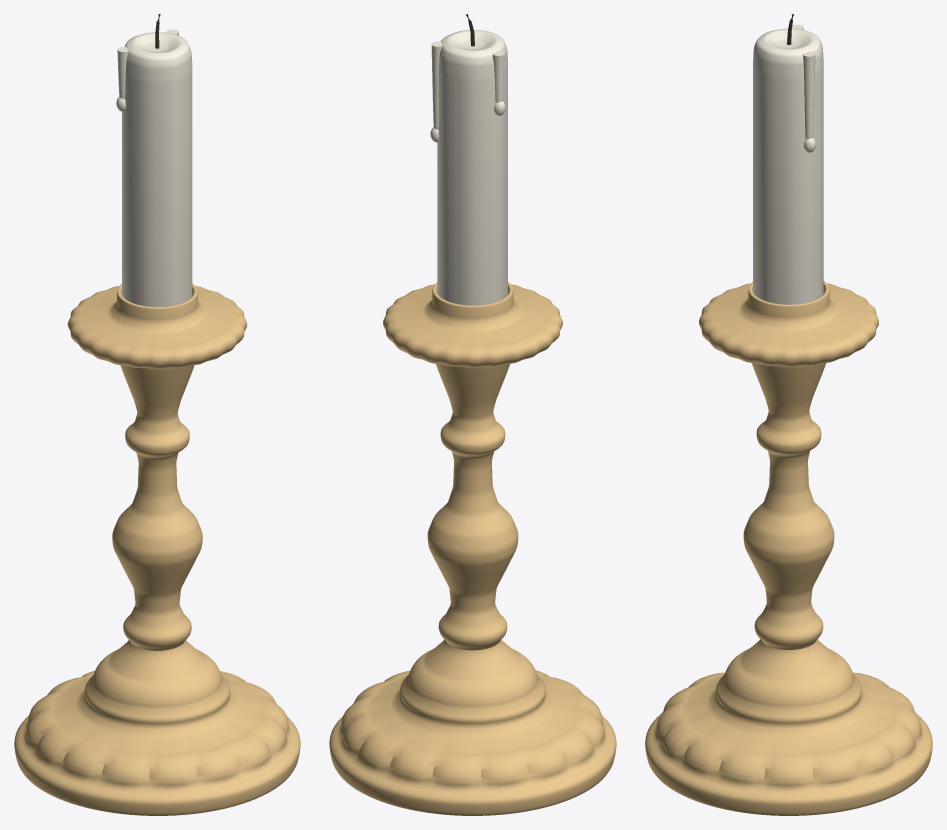
File: candlestick.glb
The picture shows the model from 3 angles, left to right: view 1: azimuth 30°, elevation 25°; view 2: azimuth 150°, elevation 25°; view 3: azimuth 270°, elevation 25°; orthographic projection.
Parts seen in each view (by area): view 1: candlestick; view 2: candlestick; view 3: candlestick.
Part boxes in pixels (x1,y1,x2,y2): candlestick: [14, 14, 300, 815]; candlestick: [329, 14, 616, 815]; candlestick: [645, 14, 932, 815].
Size of the model in its own units: 0.1447 by 0.4132 by 0.1447.
